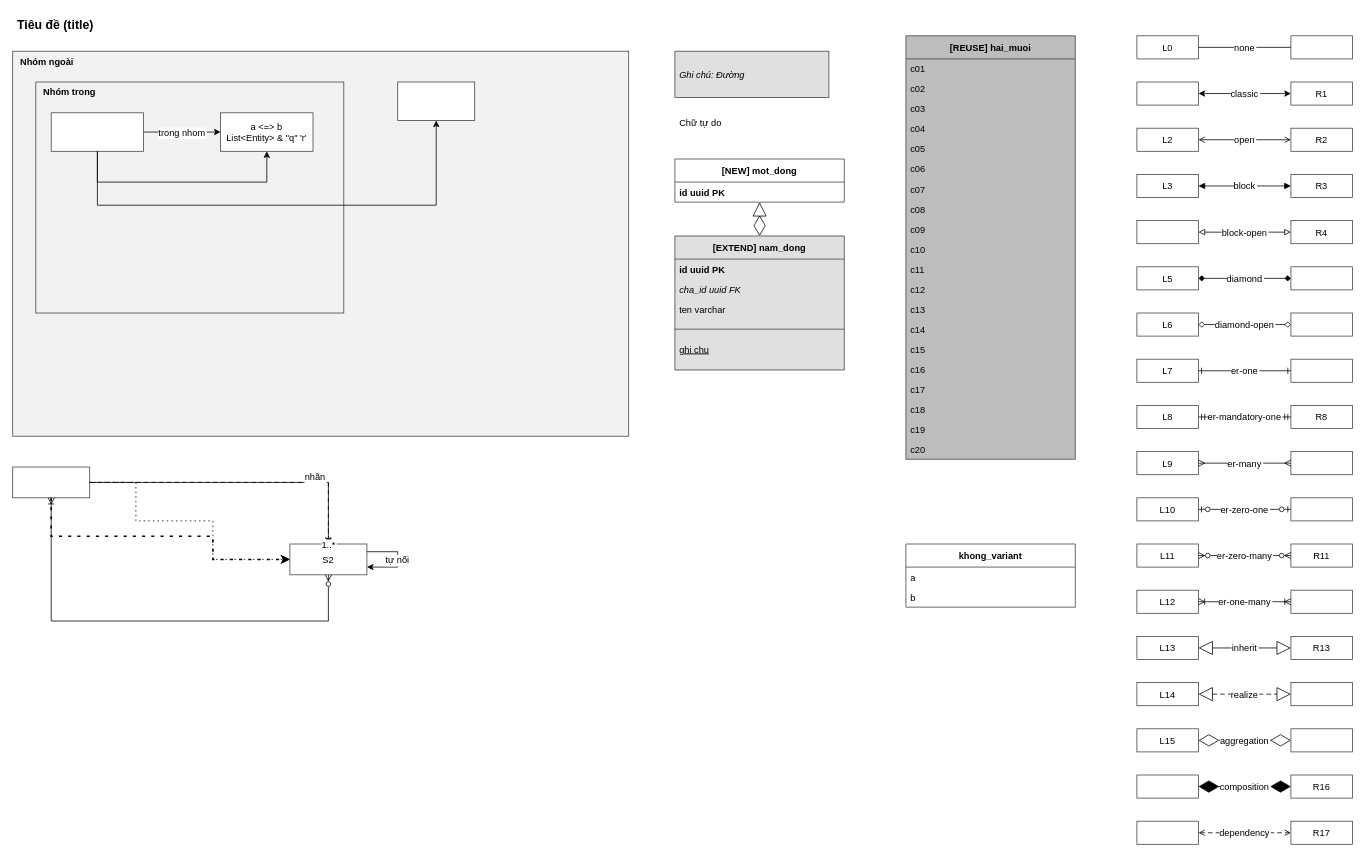
Some shapes in this 1365 by 857 pixel diagram are drawn without their labels. Here are the shapes that lost their labels. From the top down, the centre of each, then its label:
[1321,47]: R0
[436,101]: B3
[1167,93]: L1
[97,131]: Khối B1
[1167,232]: L4
[1321,278]: R5
[1321,324]: R6
[1321,370]: R7
[51,482]: S1
[1321,463]: R9
[1321,509]: R10
[1321,601]: R12
[1321,694]: R14
[1321,740]: R15
[1167,786]: L16
[1167,832]: L17
